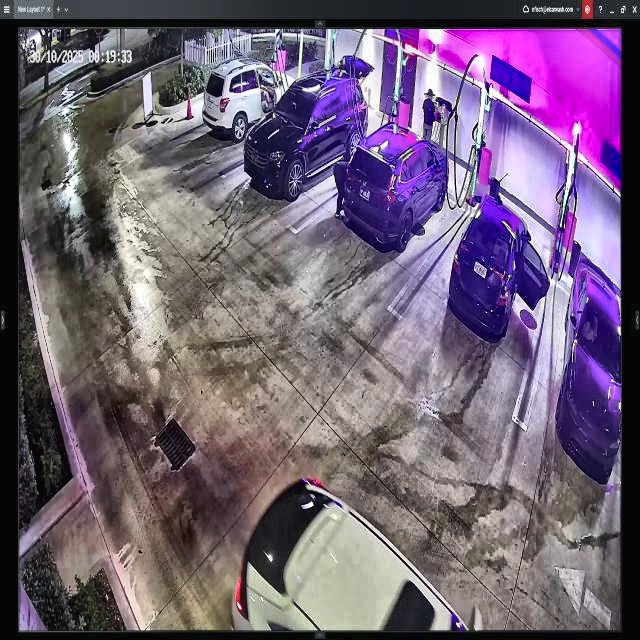Car: (245, 56, 367, 206), (446, 191, 544, 337), (339, 129, 448, 247)
